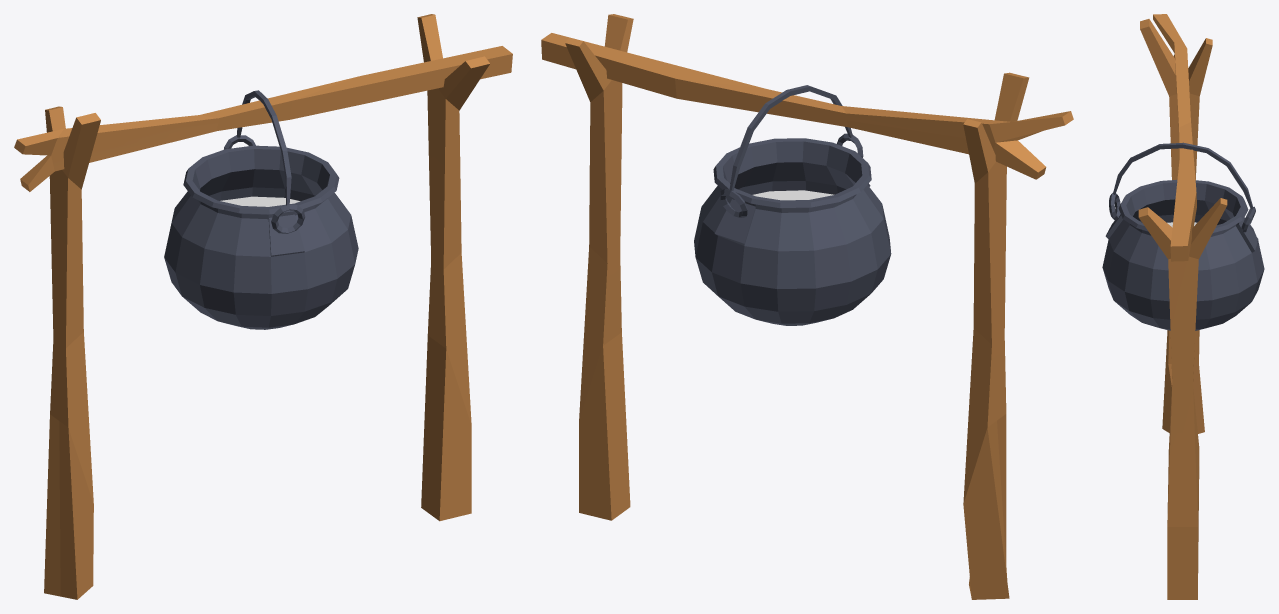
File: PotModel.fbx
3 renders of one model, left to right at view 1: azimuth 30°, elevation 25°; view 2: azimuth 150°, elevation 25°; view 3: azimuth 270°, elevation 25°, orthographic. The views are drawn at different scales.
Parts seen in each view (by area): view 1: Pot; view 2: Pot; view 3: Pot.
Boxes of the visible parts, bbox=[...] form: Pot: bbox=[14, 14, 512, 599]; Pot: bbox=[541, 14, 1073, 599]; Pot: bbox=[1102, 14, 1264, 599].
Size of the model in its own units: 465 by 447 by 157.
